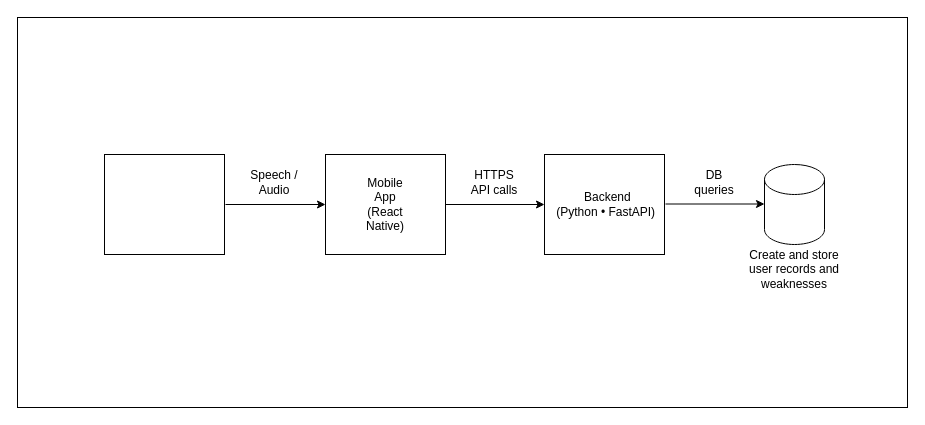
The diagram is 925 pixels wide and 425 high, and some of its shapes have lost their labels. Each missing label, with the box of its shape:
Storage: (764, 164, 824, 244)
Visually Impaired Learner: (104, 154, 224, 254)
